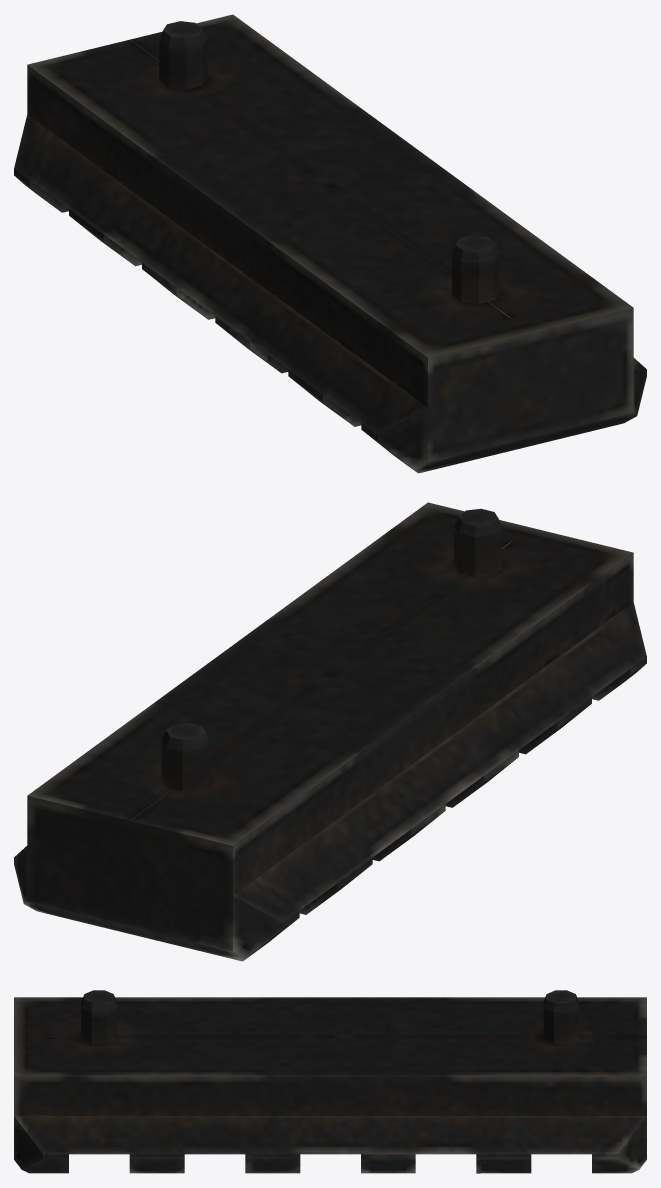
3 renders of one model, top to bottom at view 1: azimuth 30°, elevation 25°; view 2: azimuth 150°, elevation 25°; view 3: azimuth 270°, elevation 25°, orthographic. The views are drawn at different scales.
Parts seen in each view (by area): view 1: TW_5b7be4575acfc400161d0832_PZ_Import; view 2: TW_5b7be4575acfc400161d0832_PZ_Import; view 3: TW_5b7be4575acfc400161d0832_PZ_Import.
Part boxes in pixels (x1=…): TW_5b7be4575acfc400161d0832_PZ_Import: x1=14, y1=14, x2=646, y2=473; TW_5b7be4575acfc400161d0832_PZ_Import: x1=14, y1=502, x2=646, y2=961; TW_5b7be4575acfc400161d0832_PZ_Import: x1=14, y1=990, x2=646, y2=1173.
Bounding box in the file's own units: 0.0123 × 0.0317 × 0.00753.
Materials: 1 (1 with a texture image).
